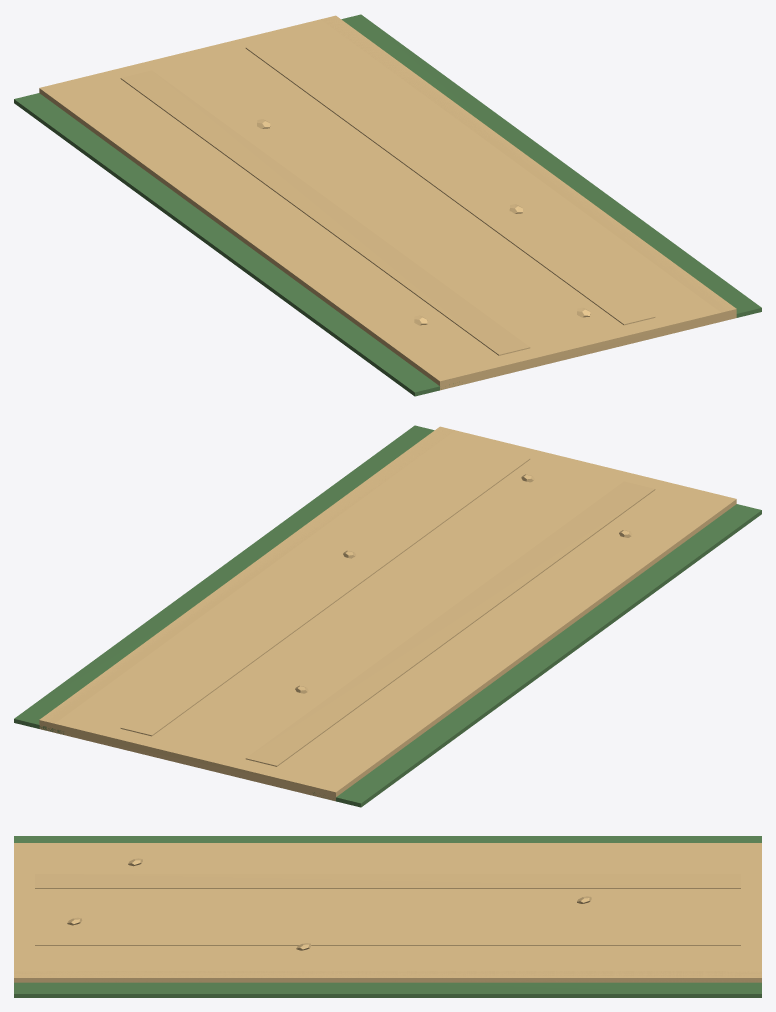
File: dirt-path.source.glb
3 renders of one model, top to bottom at view 1: azimuth 30°, elevation 25°; view 2: azimuth 150°, elevation 25°; view 3: azimuth 270°, elevation 25°, orthographic. The views are drawn at different scales.
Visible parts, largest first — view 1: dirt-path-compacted-earth-center-mesh, dirt-path-shallow-wheel-rut-left-mesh, dirt-path-shallow-wheel-rut-right-mesh, dirt-path-grass-wedge-left-mesh, dirt-path-grass-wedge-right-mesh, dirt-path-loose-earth-edge-right-mesh, dirt-path-loose-earth-edge-left-mesh; view 2: dirt-path-compacted-earth-center-mesh, dirt-path-shallow-wheel-rut-left-mesh, dirt-path-shallow-wheel-rut-right-mesh, dirt-path-grass-wedge-left-mesh, dirt-path-grass-wedge-right-mesh, dirt-path-loose-earth-edge-right-mesh, dirt-path-loose-earth-edge-left-mesh; view 3: dirt-path-compacted-earth-center-mesh, dirt-path-grass-wedge-right-mesh, dirt-path-shallow-wheel-rut-right-mesh, dirt-path-shallow-wheel-rut-left-mesh, dirt-path-grass-wedge-left-mesh, dirt-path-loose-earth-edge-right-mesh, dirt-path-loose-earth-edge-left-mesh.
Boxes of the visible parts, x1,y1,x2,y2 form: dirt-path-compacted-earth-center-mesh: [39, 15, 736, 390]; dirt-path-shallow-wheel-rut-left-mesh: [120, 70, 530, 355]; dirt-path-shallow-wheel-rut-right-mesh: [245, 40, 655, 325]; dirt-path-grass-wedge-left-mesh: [14, 93, 453, 396]; dirt-path-grass-wedge-right-mesh: [341, 14, 761, 317]; dirt-path-loose-earth-edge-right-mesh: [321, 16, 734, 312]; dirt-path-loose-earth-edge-left-mesh: [39, 84, 455, 385]; dirt-path-compacted-earth-center-mesh: [39, 426, 736, 801]; dirt-path-shallow-wheel-rut-left-mesh: [245, 481, 655, 766]; dirt-path-shallow-wheel-rut-right-mesh: [120, 451, 530, 736]; dirt-path-grass-wedge-left-mesh: [313, 504, 761, 807]; dirt-path-grass-wedge-right-mesh: [14, 425, 434, 734]; dirt-path-loose-earth-edge-right-mesh: [39, 427, 454, 727]; dirt-path-loose-earth-edge-left-mesh: [320, 496, 735, 796]; dirt-path-compacted-earth-center-mesh: [14, 843, 761, 982]; dirt-path-grass-wedge-right-mesh: [14, 982, 761, 997]; dirt-path-shallow-wheel-rut-right-mesh: [35, 930, 740, 945]; dirt-path-shallow-wheel-rut-left-mesh: [35, 874, 740, 888]; dirt-path-grass-wedge-left-mesh: [14, 836, 761, 842]; dirt-path-loose-earth-edge-right-mesh: [14, 971, 761, 982]; dirt-path-loose-earth-edge-left-mesh: [14, 843, 760, 849].
Bounding box in the file's own units: 4 × 0.151 × 8.
